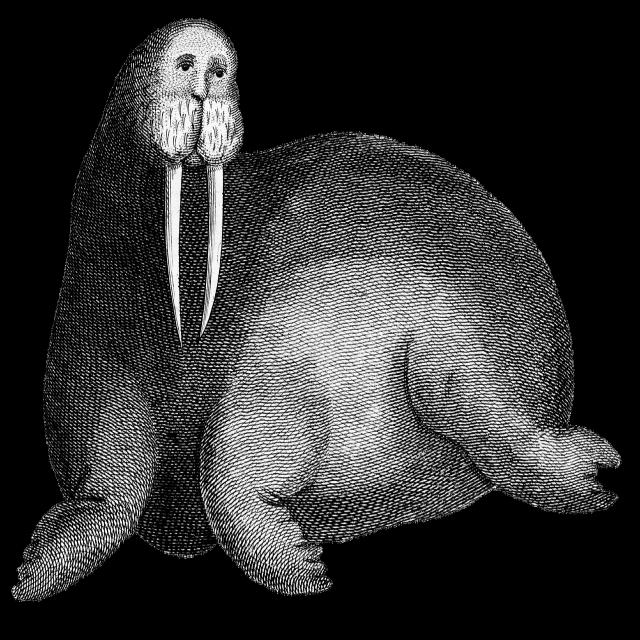walrus: (16, 18, 624, 605)
